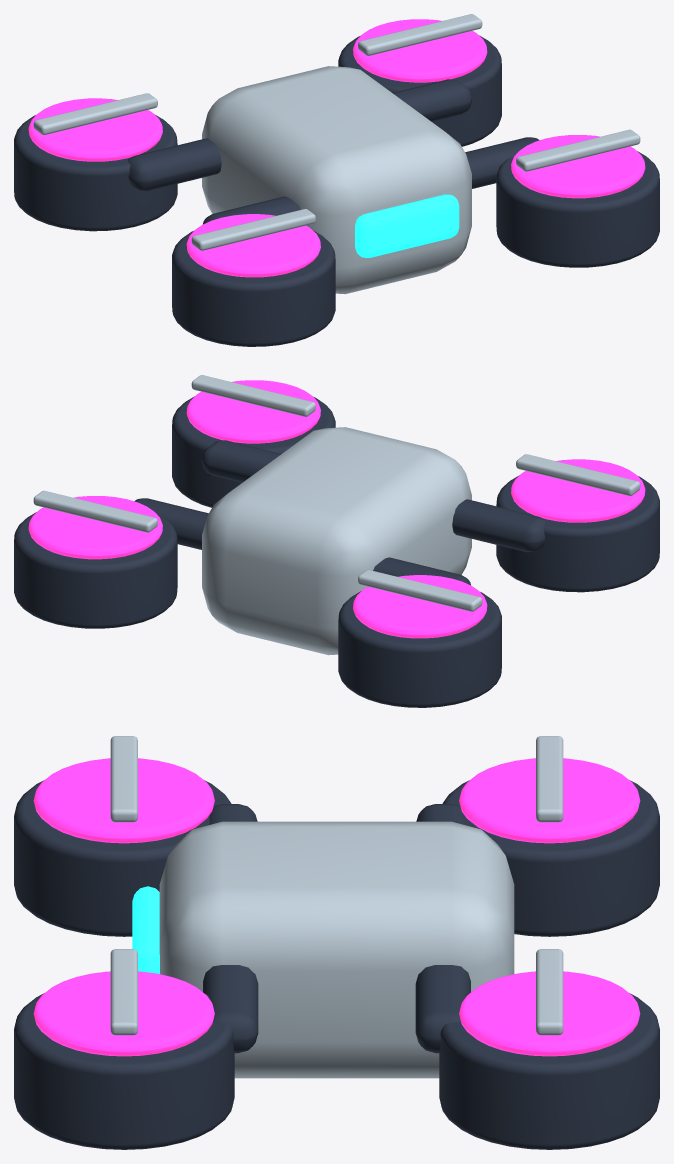
File: free-shield-drone.glb
The picture shows the model from 3 angles, top to bottom: view 1: azimuth 30°, elevation 25°; view 2: azimuth 150°, elevation 25°; view 3: azimuth 270°, elevation 25°; orthographic projection. The views are drawn at different scales.
Parts seen in each view (by area): view 1: shield-drone; view 2: shield-drone; view 3: shield-drone.
Part boxes in pixels (box(x1,y1,x2,y2)): shield-drone: box(14, 14, 659, 346); shield-drone: box(14, 375, 659, 707); shield-drone: box(14, 736, 659, 1149).
Bounding box in the file's own units: 0.92 × 0.26 × 0.82.
